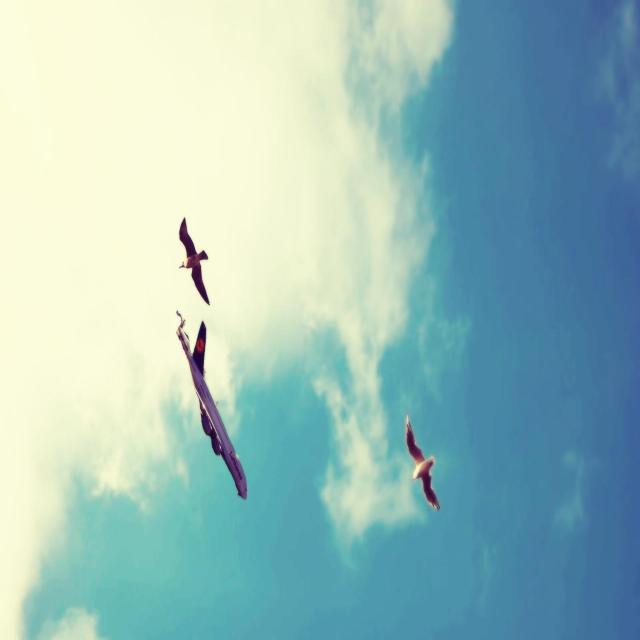airplane: (175, 310, 248, 500)
